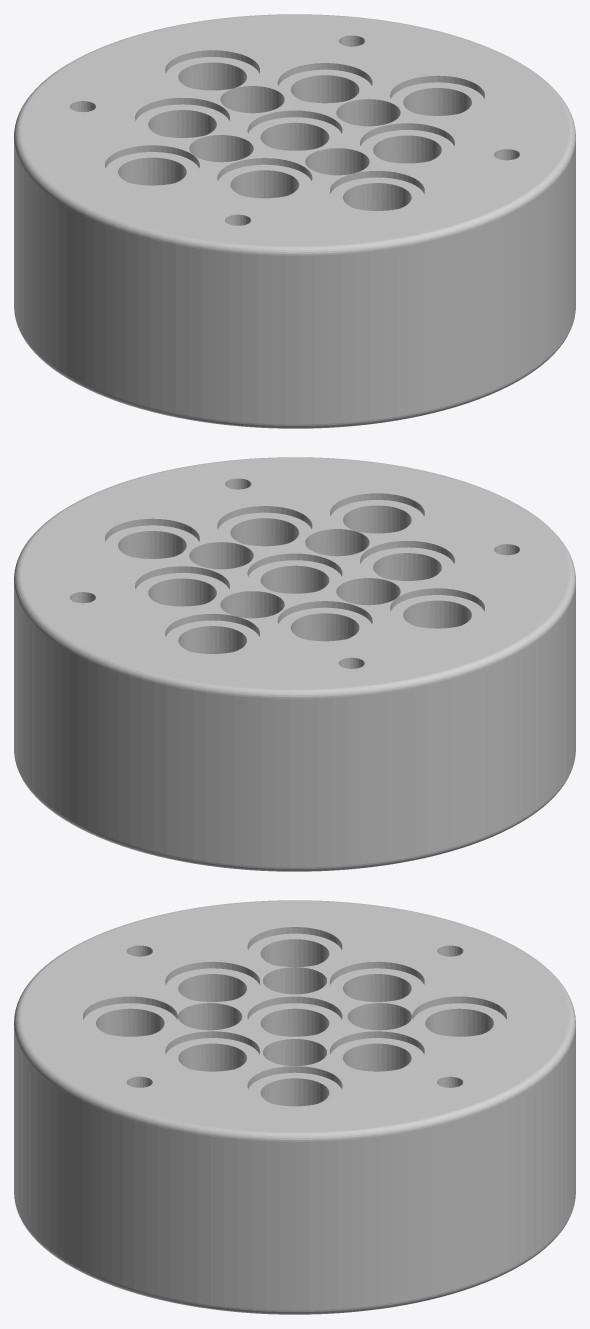
3 views of the same model, one above another, from view 1: azimuth 30°, elevation 25°; view 2: azimuth 150°, elevation 25°; view 3: azimuth 270°, elevation 25° (orthographic).
Parts seen in each view (by area): view 1: Link7; view 2: Link7; view 3: Link7.
Boxes of the visible parts, bbox=[...] form: Link7: bbox=[14, 14, 575, 428]; Link7: bbox=[14, 457, 575, 871]; Link7: bbox=[14, 900, 575, 1314].
Bounding box in the file's own units: 0.0384 × 0.0384 × 0.0137.
Materials: 1 (1 with a texture image).
